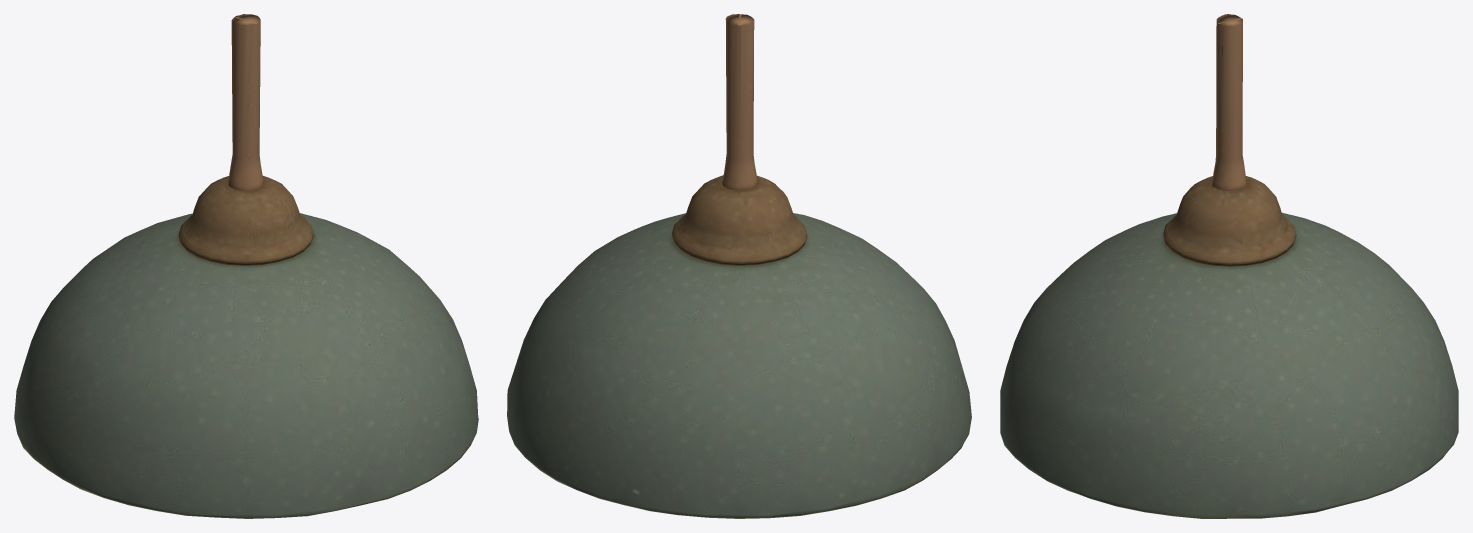
The model's file is green_pendant_light.glb.
3 views of the same model, side by side, from view 1: azimuth 30°, elevation 25°; view 2: azimuth 150°, elevation 25°; view 3: azimuth 270°, elevation 25° (orthographic).
Visible parts, largest first — view 1: geometry_0; view 2: geometry_0; view 3: geometry_0.
Boxes of the visible parts, bbox=[...] form: geometry_0: bbox=[14, 14, 478, 518]; geometry_0: bbox=[507, 14, 971, 518]; geometry_0: bbox=[1000, 14, 1458, 518].
Bounding box in the file's own units: 1 × 0.9799 × 1.
1 material, 1 textured.
